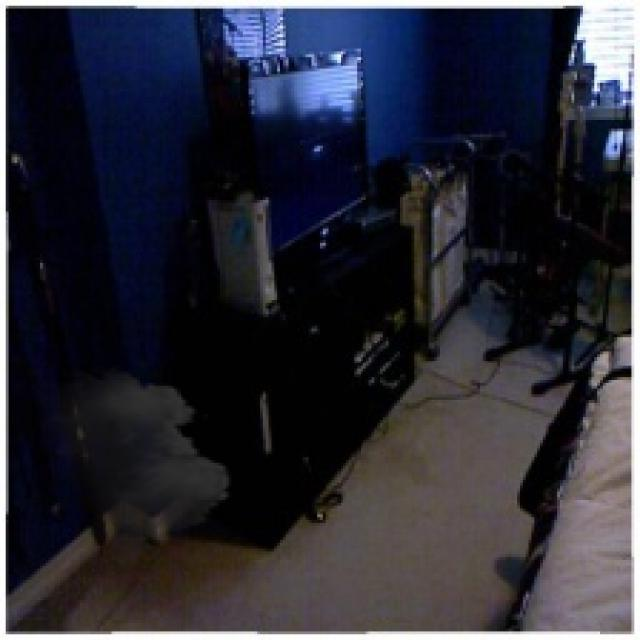smoke: (20, 366, 240, 571)
